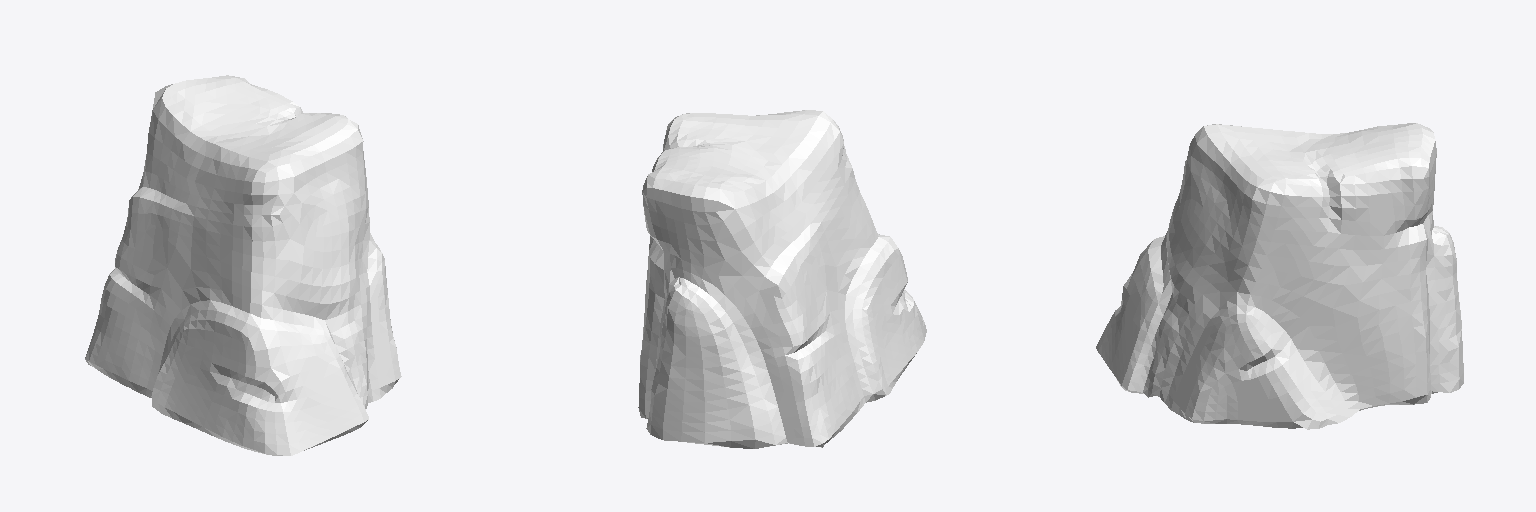
Rendered from Cliff_A.obj.
3 renders of one model, left to right at view 1: azimuth 30°, elevation 25°; view 2: azimuth 150°, elevation 25°; view 3: azimuth 270°, elevation 25°, orthographic.
Visible parts, largest first — view 1: Group1; view 2: Group1; view 3: Group1.
Boxes of the visible parts, <box> form: Group1: <box>85,75,401,455</box>; Group1: <box>638,110,926,448</box>; Group1: <box>1096,123,1463,429</box>.
Size of the model in its own units: 9.78 by 10.09 by 13.67.